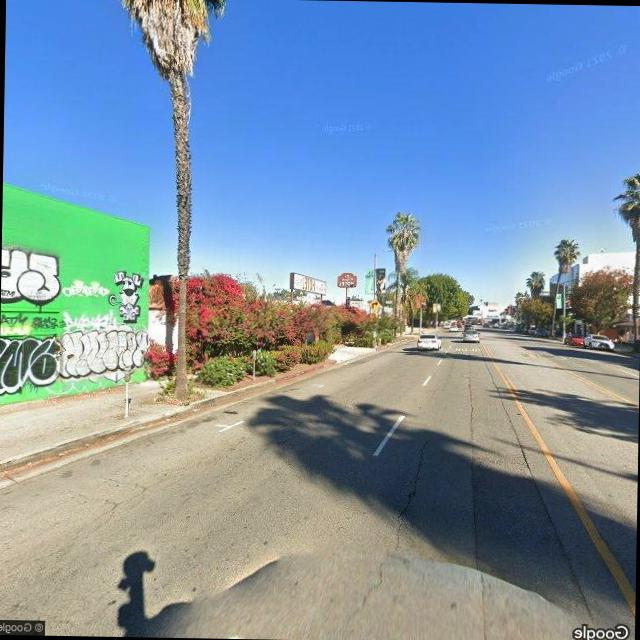pothole: (358, 428, 433, 625)
